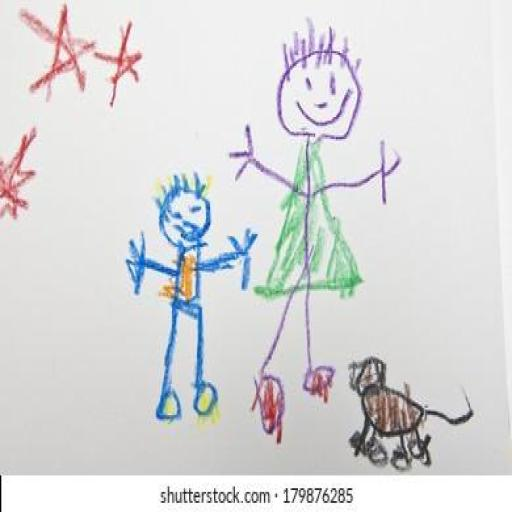person: (230, 26, 404, 434), (126, 169, 259, 434)
